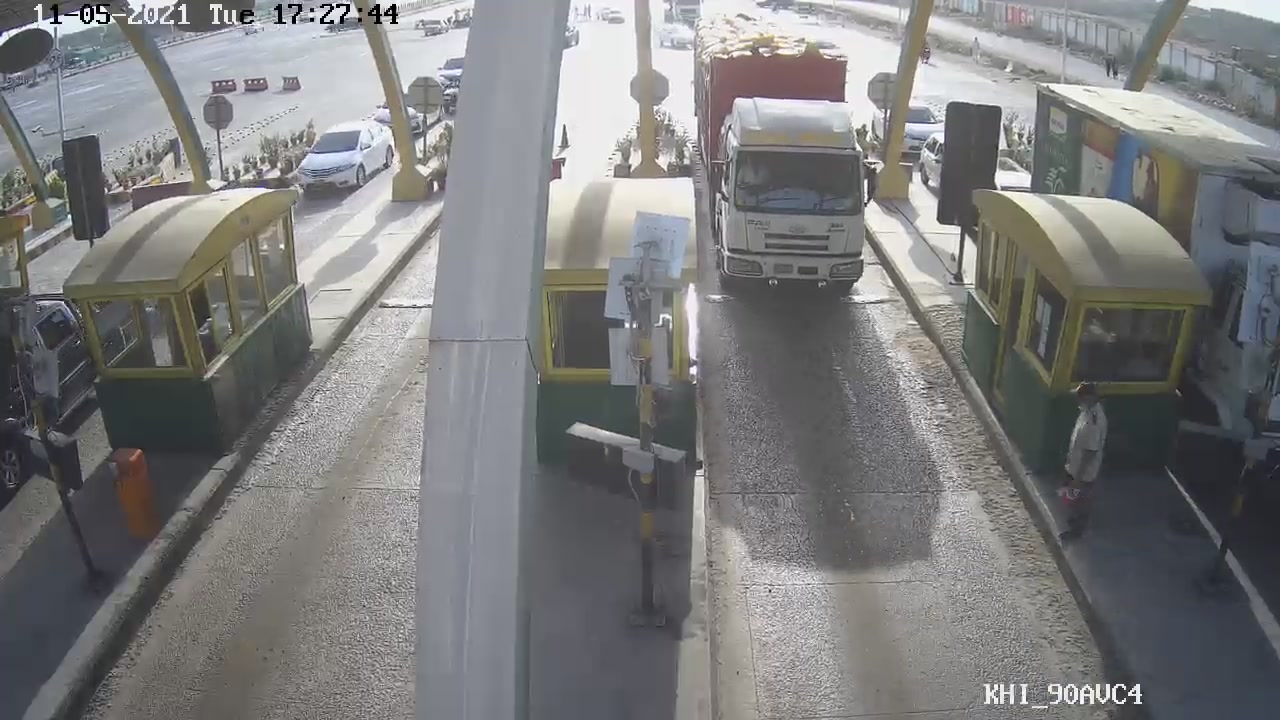F6: (689, 42, 888, 301)
